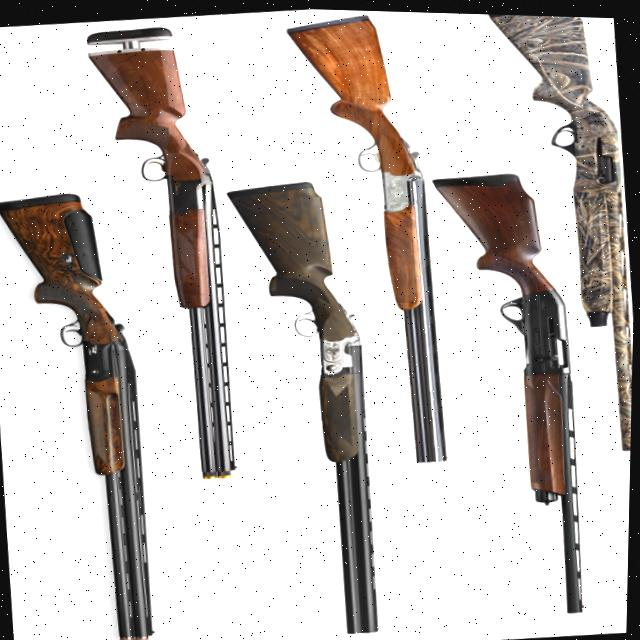firearm: (274, 7, 457, 472), (72, 19, 249, 489), (218, 175, 396, 640), (423, 164, 595, 621), (0, 185, 167, 640), (477, 11, 640, 459)
